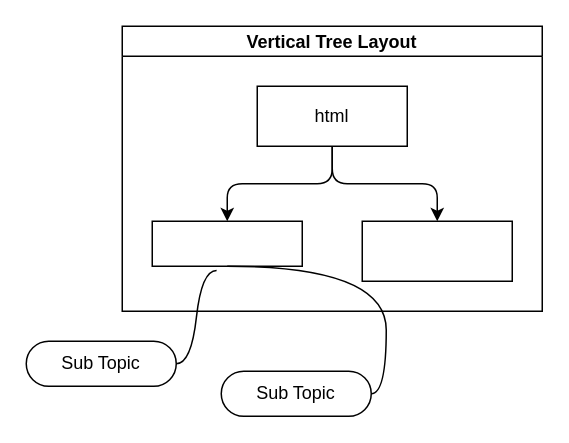
This 569x443 diagram has some shape labels left out. The shapes that lost their labels are listed below. From the top down, each one's box as (x1, y1, x2, y2) in pixels, then its label:
(151, 220, 302, 266): body
(361, 220, 512, 281): head
